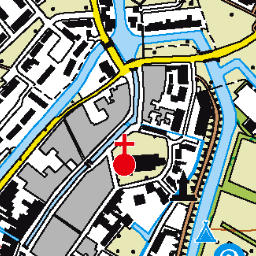church: (110, 132, 138, 178)
